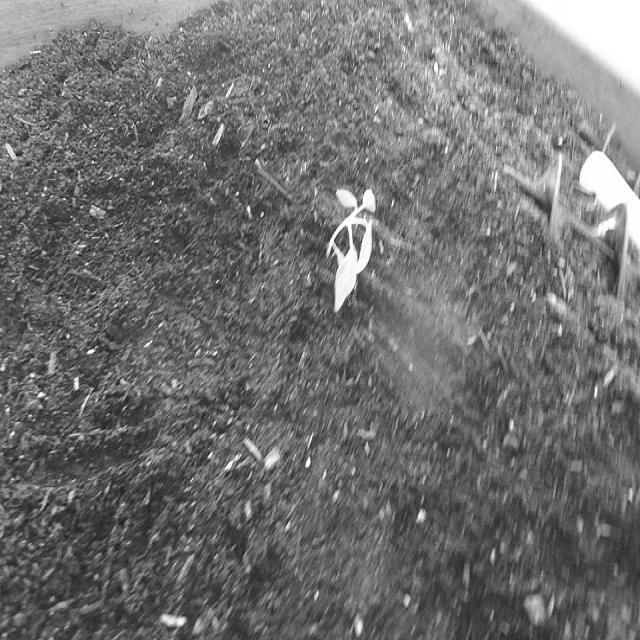Healthy: (316, 162, 391, 320)
